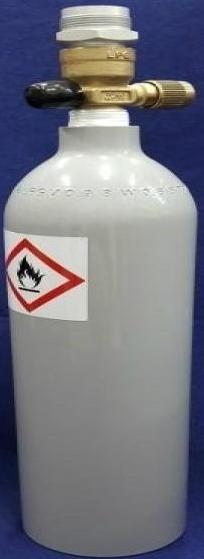cylinder: (1, 1, 204, 559)
